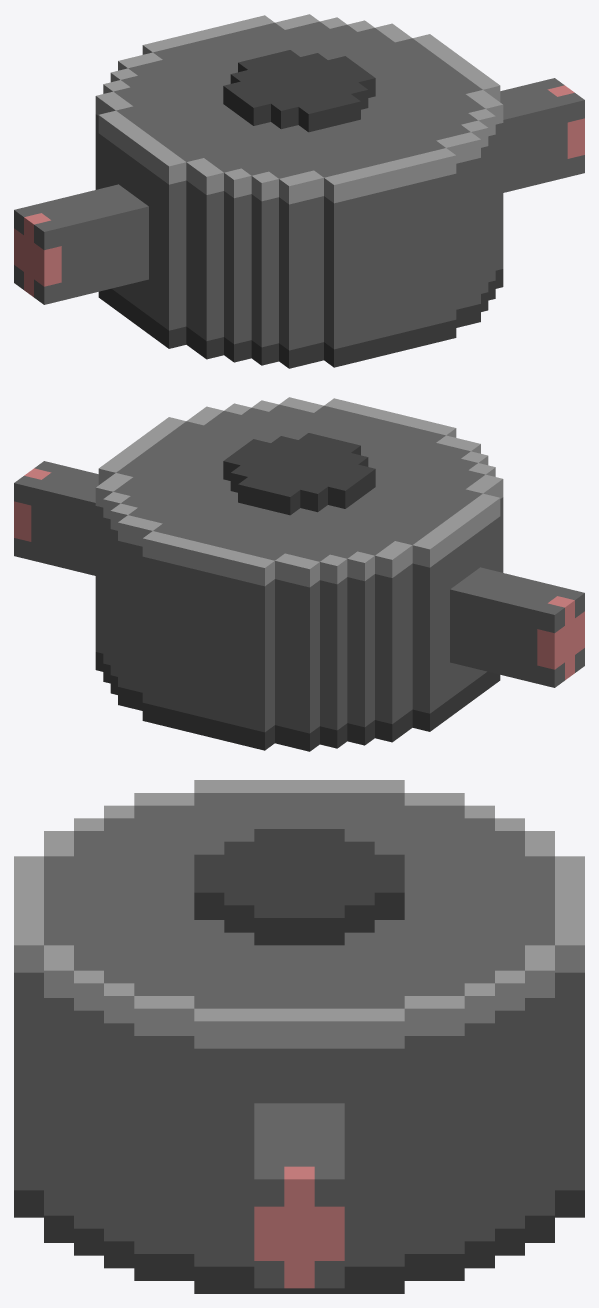
The model's file is WheelyBase-1.obj.
The picture shows the model from 3 angles, top to bottom: view 1: azimuth 30°, elevation 25°; view 2: azimuth 150°, elevation 25°; view 3: azimuth 270°, elevation 25°; orthographic projection. The views are drawn at different scales.
Size of the model in its own units: 3.1 by 1.1 by 1.9.
1 material, 1 textured.
